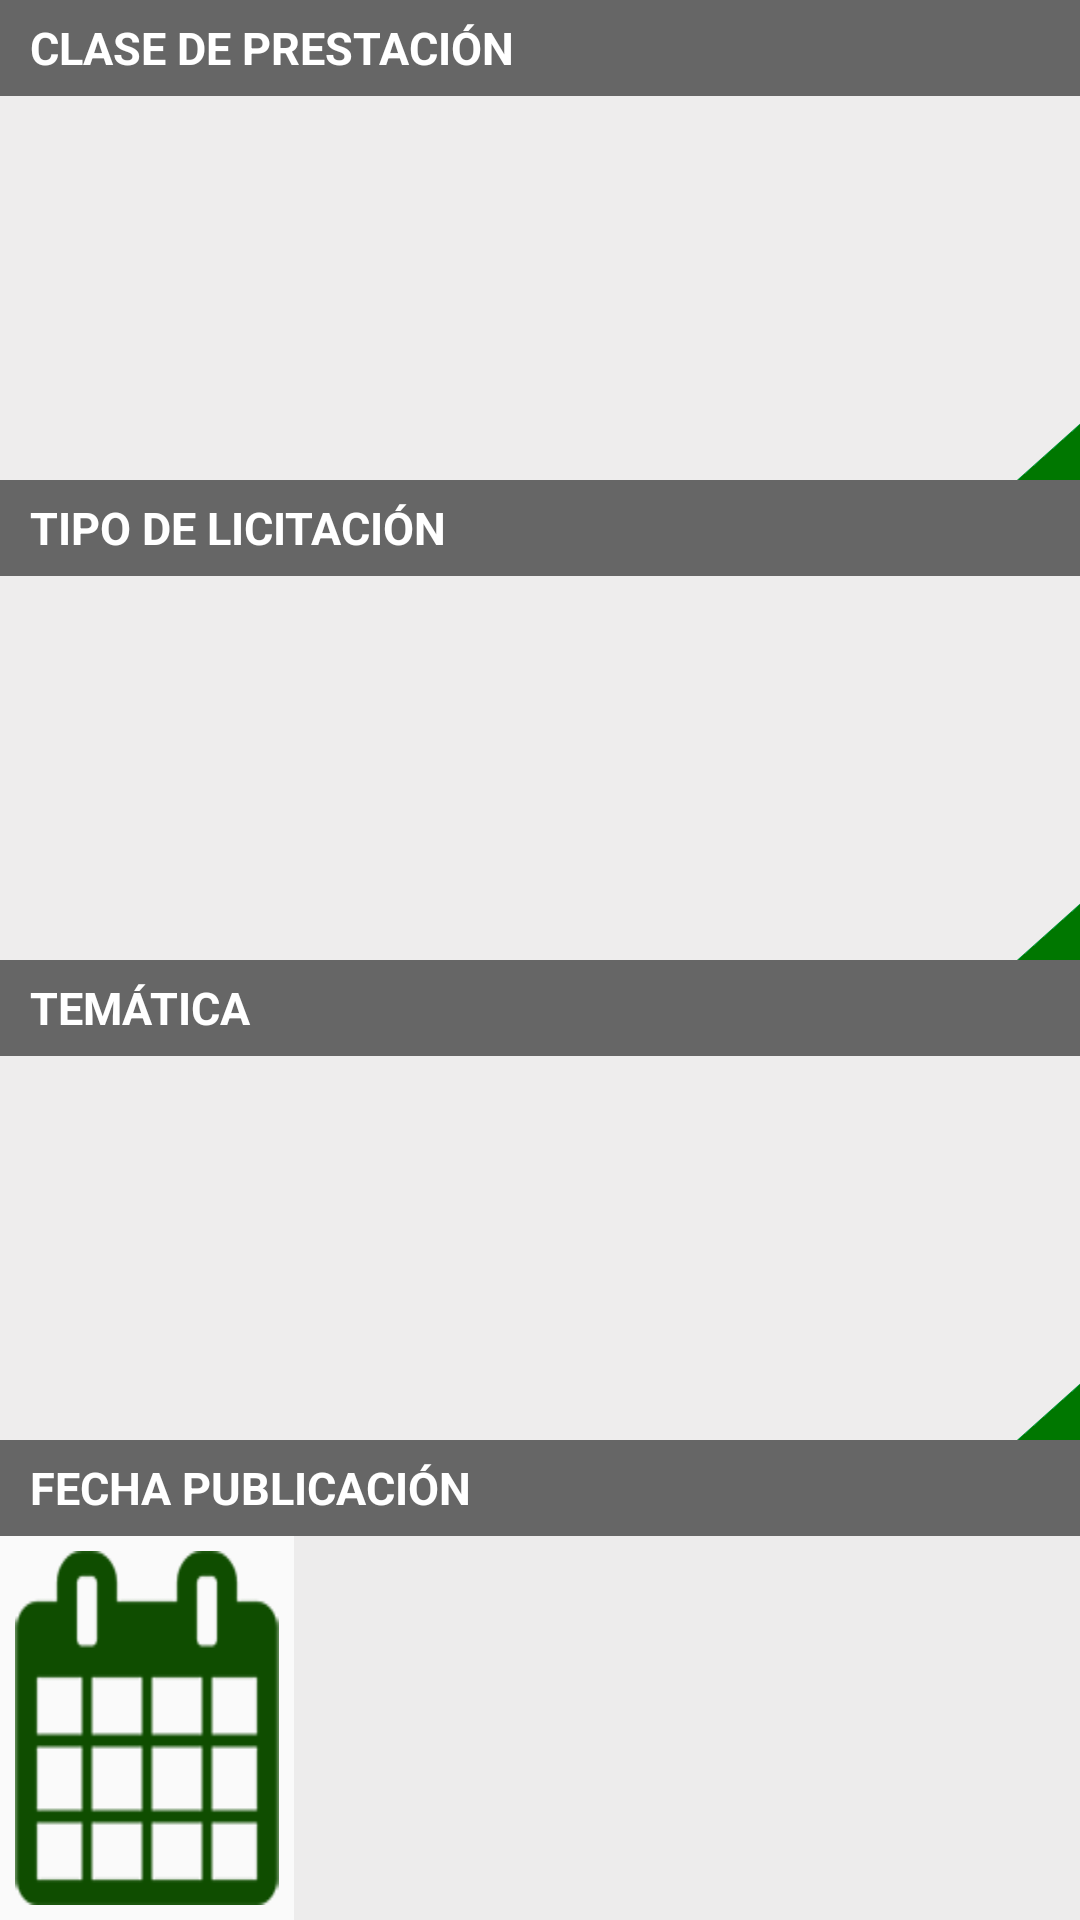

Icon click points for this 1080w x 1920h phone screenshot, format (x,y):
calendar: (147,1728)
